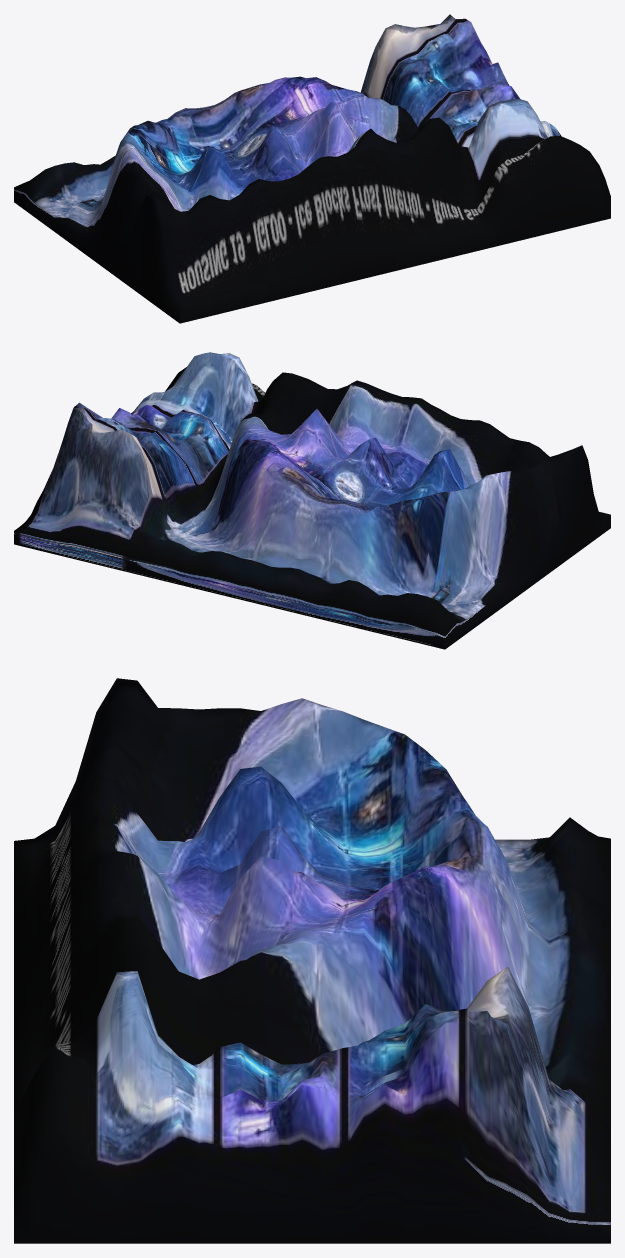
The model's file is HOUSING_19_Igloo.glb.
The picture shows the model from 3 angles, top to bottom: view 1: azimuth 30°, elevation 25°; view 2: azimuth 150°, elevation 25°; view 3: azimuth 270°, elevation 25°; orthographic projection. The views are drawn at different scales.
Parts seen in each view (by area): view 1: HOUSING_19_Igloo; view 2: HOUSING_19_Igloo; view 3: HOUSING_19_Igloo.
Boxes of the visible parts, box(x1,y1,x2,y2) form: HOUSING_19_Igloo: box(14, 14, 610, 323); HOUSING_19_Igloo: box(14, 352, 610, 649); HOUSING_19_Igloo: box(14, 678, 610, 1243).
Size of the model in its own units: 2 by 0.51 by 1.33.
Materials: 1 (1 with a texture image).
